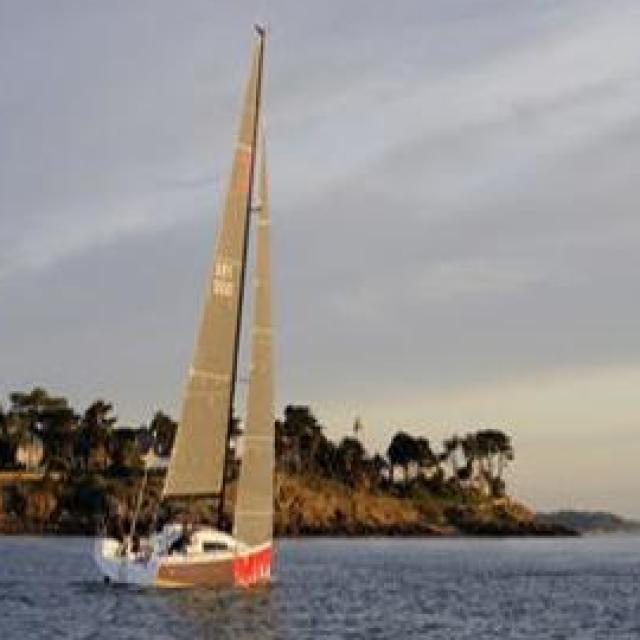sailboat: (87, 22, 298, 590)
